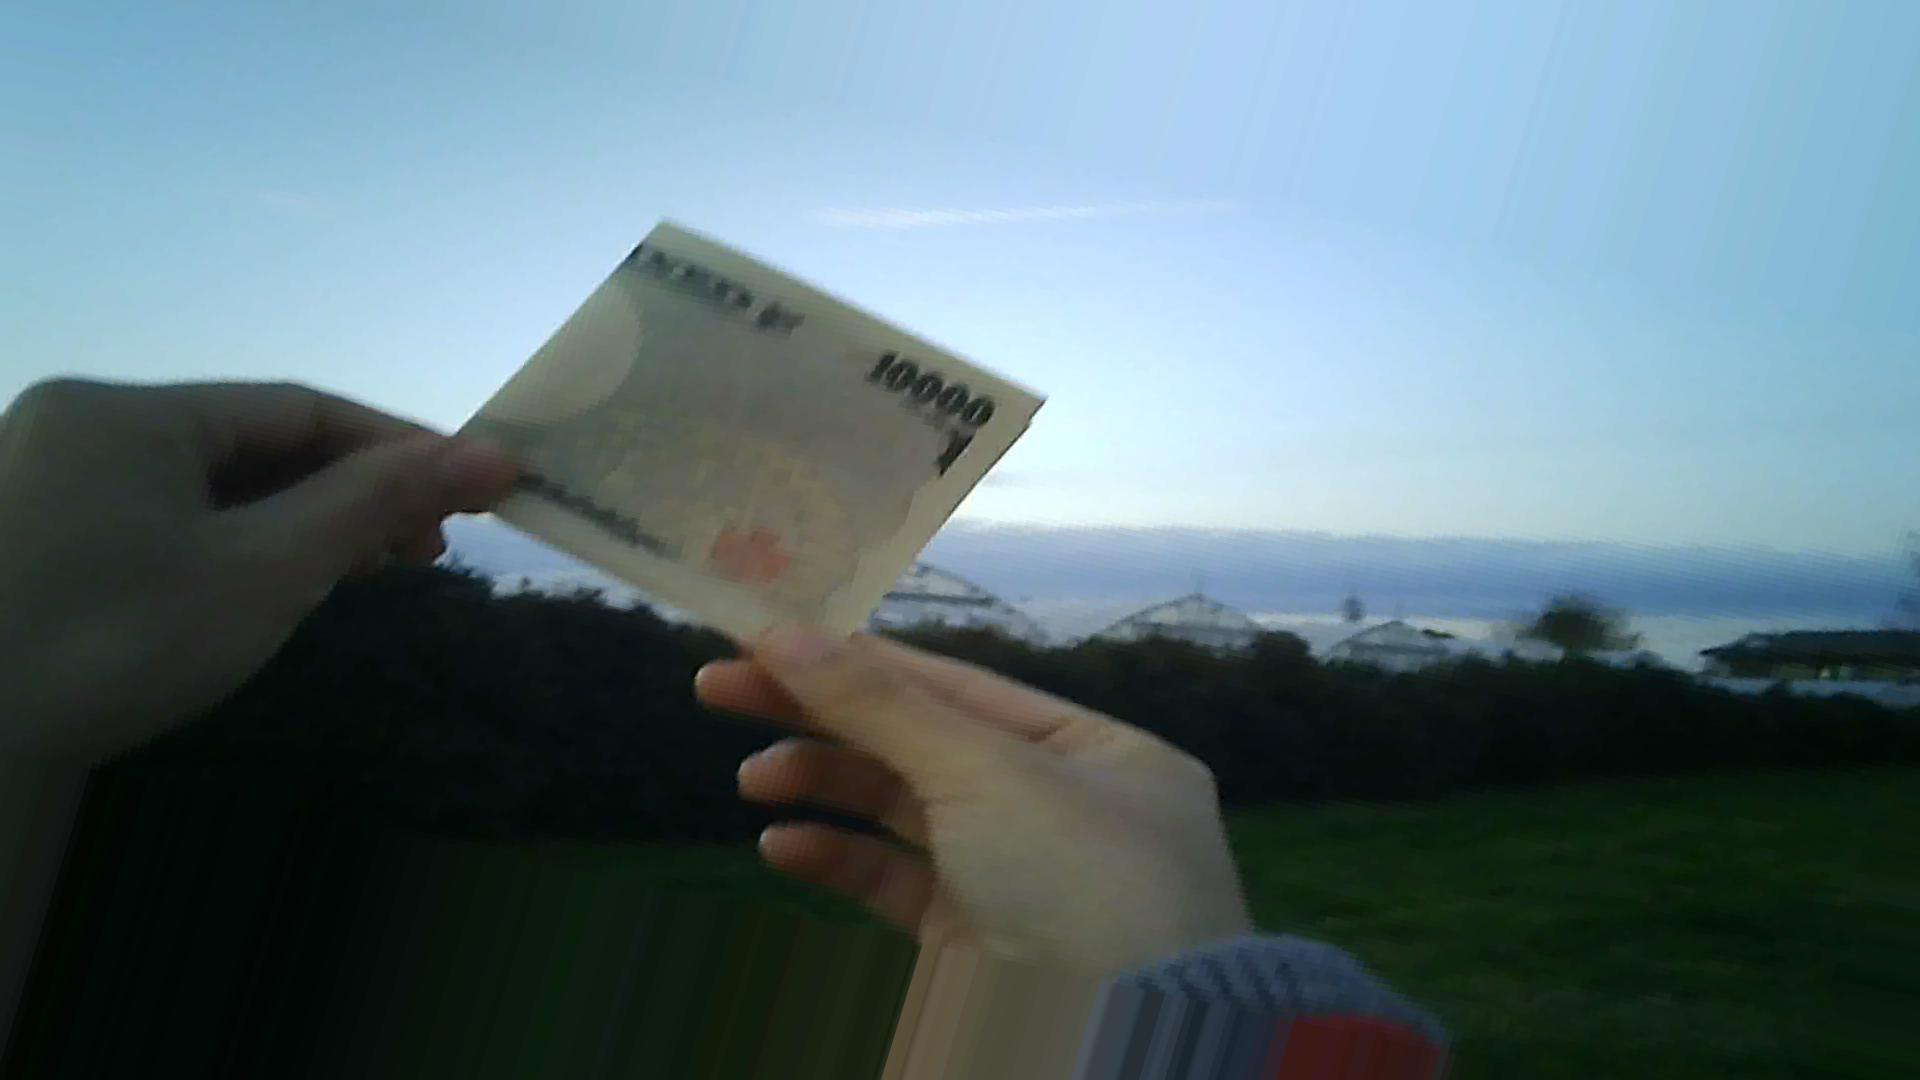10,000 Yen: (407, 196, 1035, 651)
